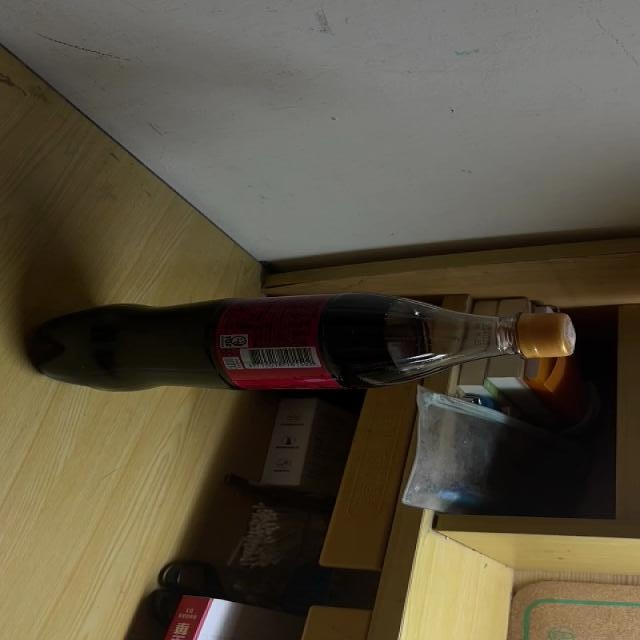Coca-Cola: (29, 291, 577, 394)
